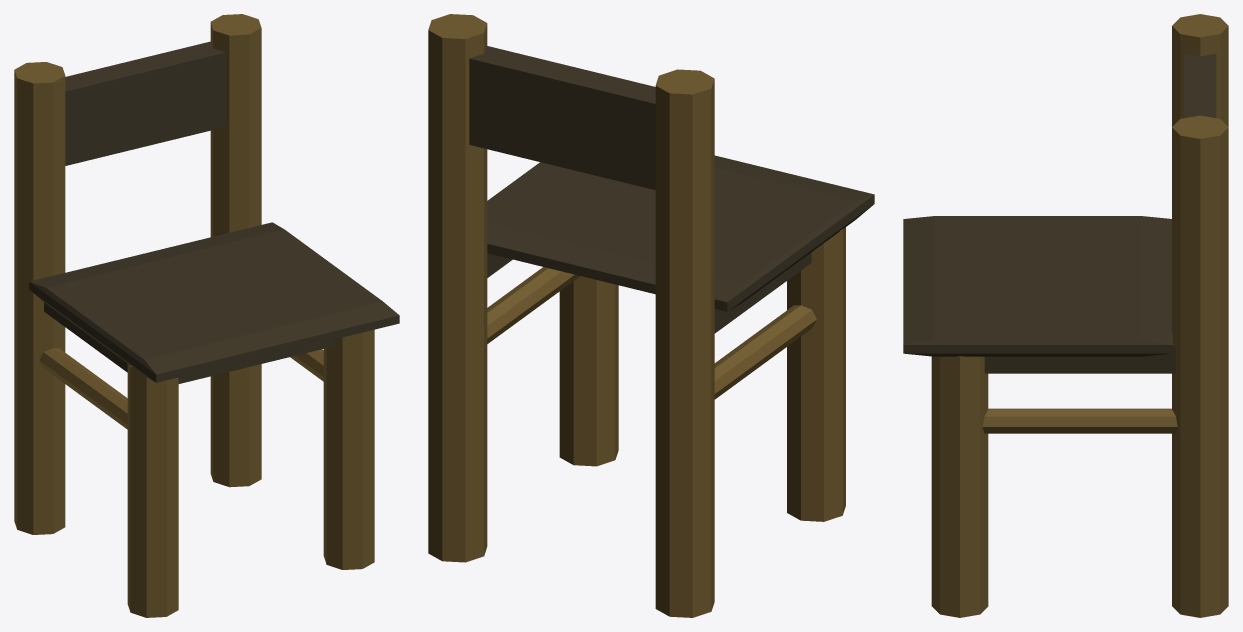
File: silla de madera.fbx
3 views of the same model, side by side, from view 1: azimuth 30°, elevation 25°; view 2: azimuth 150°, elevation 25°; view 3: azimuth 270°, elevation 25° (orthographic). The views are drawn at different scales.
Visible parts, largest first — view 1: silla; view 2: silla; view 3: silla.
Part boxes in pixels (left/top/right/bottom): silla: left=14, top=14, right=399, bottom=617; silla: left=428, top=14, right=874, bottom=617; silla: left=903, top=14, right=1228, bottom=617.
Size of the model in its own units: 124 by 220 by 135.
